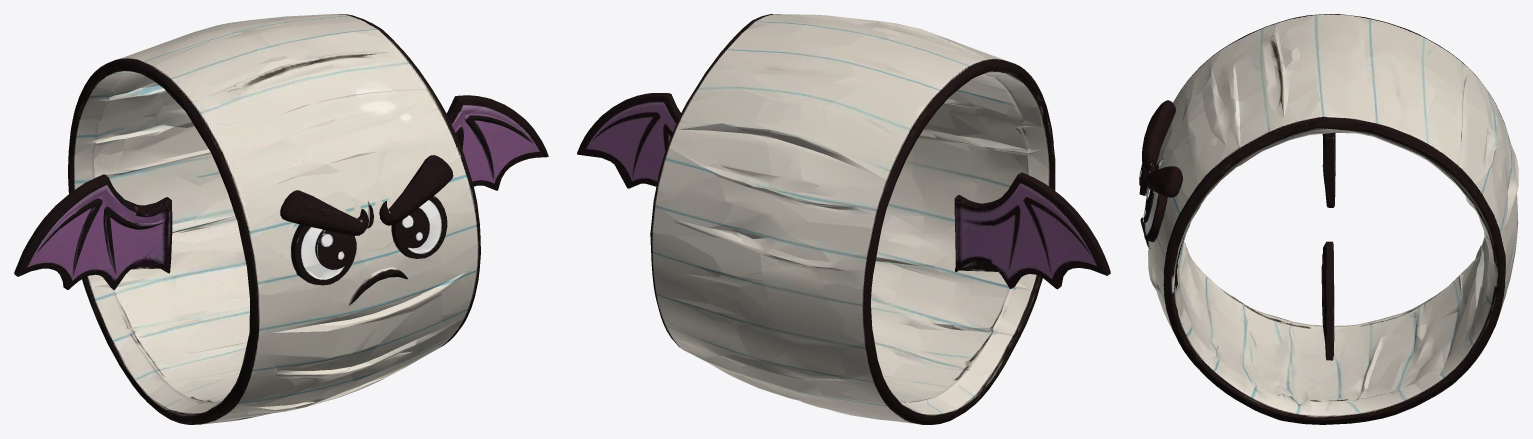
The model's file is creep_flyer.glb.
3 views of the same model, side by side, from view 1: azimuth 30°, elevation 25°; view 2: azimuth 150°, elevation 25°; view 3: azimuth 270°, elevation 25° (orthographic). The views are drawn at different scales.
Bounding box in the file's own units: 1.9 × 1.21 × 1.24.
1 material, 1 textured.
